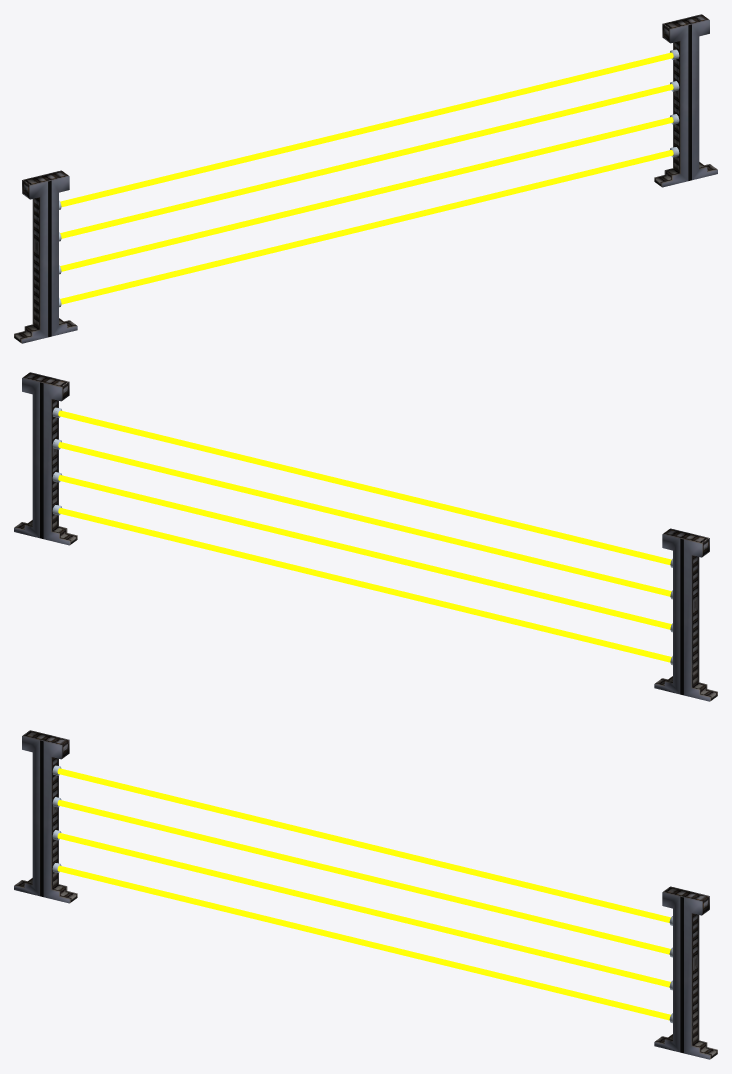
File: FUT0410051.fbx
3 renders of one model, top to bottom at view 1: azimuth 30°, elevation 25°; view 2: azimuth 150°, elevation 25°; view 3: azimuth 330°, elevation 25°, orthographic.
Visible parts, largest first — view 1: smFUT0410051; view 2: smFUT0410051; view 3: smFUT0410051.
Part boxes in pixels (x1,y1,x2,y2): smFUT0410051: (14,14,717,343); smFUT0410051: (14,372,717,701); smFUT0410051: (14,730,717,1059).
Bounding box in the file's own units: 572 × 122 × 11.47.
